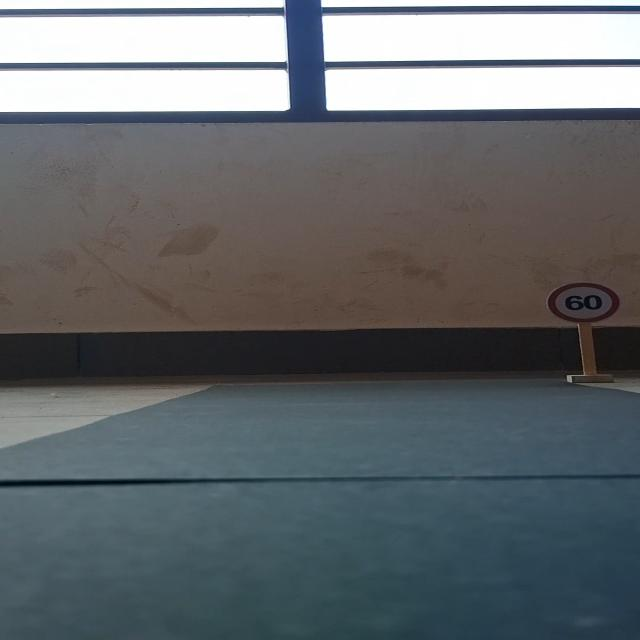Speed60: (545, 280, 623, 326)
